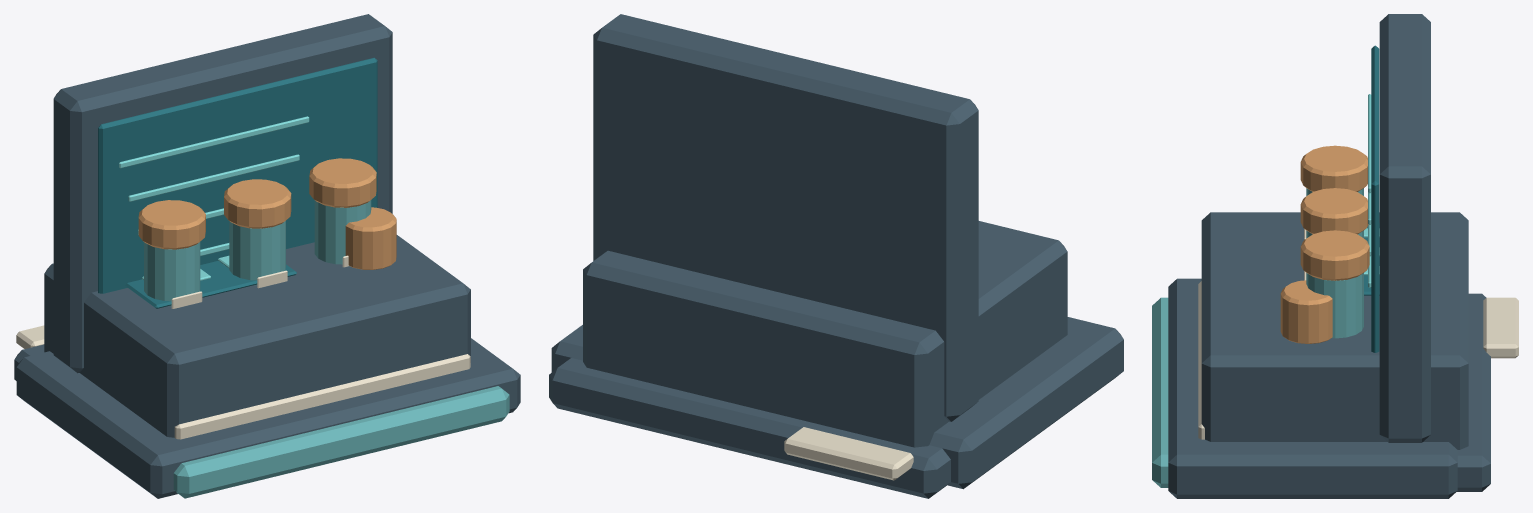
The model's file is investigation-props.glb.
3 views of the same model, side by side, from view 1: azimuth 30°, elevation 25°; view 2: azimuth 150°, elevation 25°; view 3: azimuth 270°, elevation 25° (orthographic). The views are drawn at different scales.
Visible parts, largest first — view 1: TerminalPropMesh, DevicePropMesh, SamplePropMesh, DocumentPropMesh; view 2: TerminalPropMesh, DevicePropMesh, DocumentPropMesh; view 3: TerminalPropMesh, DevicePropMesh, SamplePropMesh, DocumentPropMesh.
Boxes of the visible parts, left/top/right/bottom form: TerminalPropMesh: left=16, top=14, right=520, bottom=498; DevicePropMesh: left=44, top=207, right=509, bottom=498; SamplePropMesh: left=138, top=158, right=376, bottom=308; DocumentPropMesh: left=14, top=325, right=470, bottom=439; TerminalPropMesh: left=551, top=14, right=1123, bottom=489; DevicePropMesh: left=583, top=221, right=1067, bottom=447; DocumentPropMesh: left=549, top=358, right=950, bottom=498; TerminalPropMesh: left=1168, top=14, right=1457, bottom=498; DevicePropMesh: left=1152, top=212, right=1468, bottom=487; SamplePropMesh: left=1300, top=145, right=1369, bottom=338; DocumentPropMesh: left=1198, top=281, right=1518, bottom=491.
Size of the model in its own units: 0.39 by 0.318 by 0.3295.
